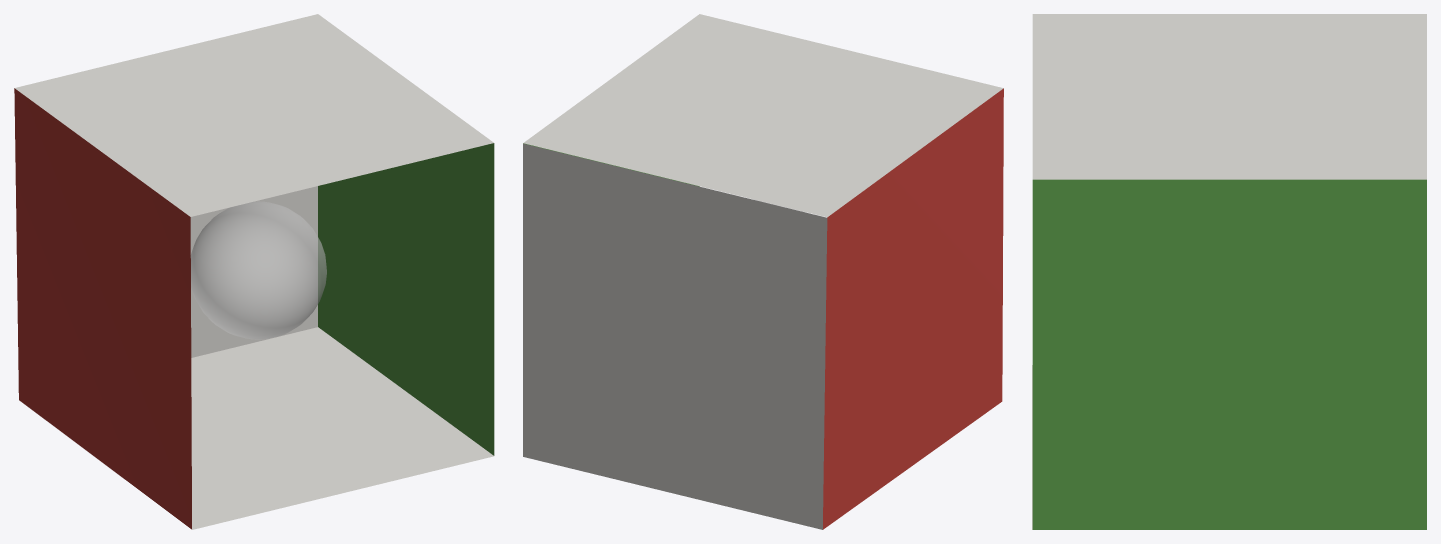
Rendered from glass_cornell.glb.
The picture shows the model from 3 angles, left to right: view 1: azimuth 30°, elevation 25°; view 2: azimuth 150°, elevation 25°; view 3: azimuth 270°, elevation 25°; orthographic projection. The views are drawn at different scales.
Parts seen in each view (by area): view 1: Object_5, Object_3, Object_7, Object_4, Object_2, Suzanne; view 2: Object_2, Object_5, Object_3; view 3: Object_7, Object_3.
Part boxes in pixels (x1,y1,x2,y2): Object_5: (14,88,191,529); Object_3: (15,14,493,216); Object_7: (318,143,494,455); Object_4: (191,327,493,529); Object_2: (190,186,317,357); Suzanne: (190,201,326,339); Object_2: (523,143,827,529); Object_5: (823,88,1003,529); Object_3: (523,14,1003,217); Object_7: (1032,179,1426,529); Object_3: (1032,14,1426,179).
Bounding box in the file's own units: 2.02 × 1.99 × 2.03.
